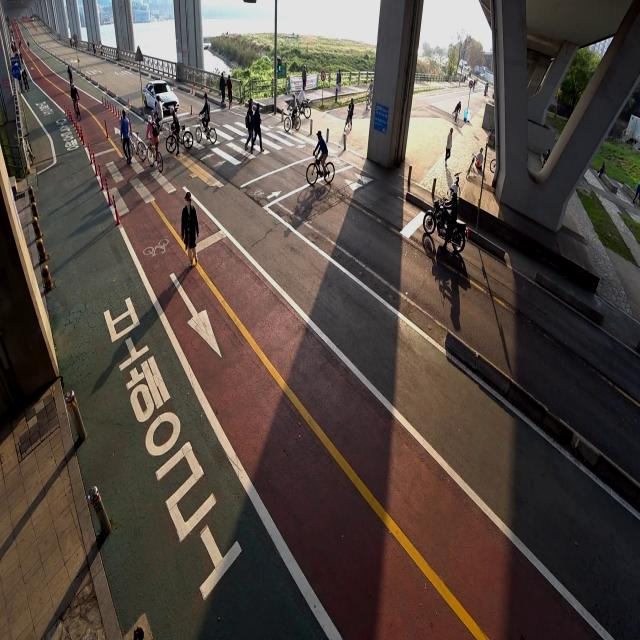Car: (138, 70, 182, 114)
Motorcycle: (424, 180, 469, 253)
